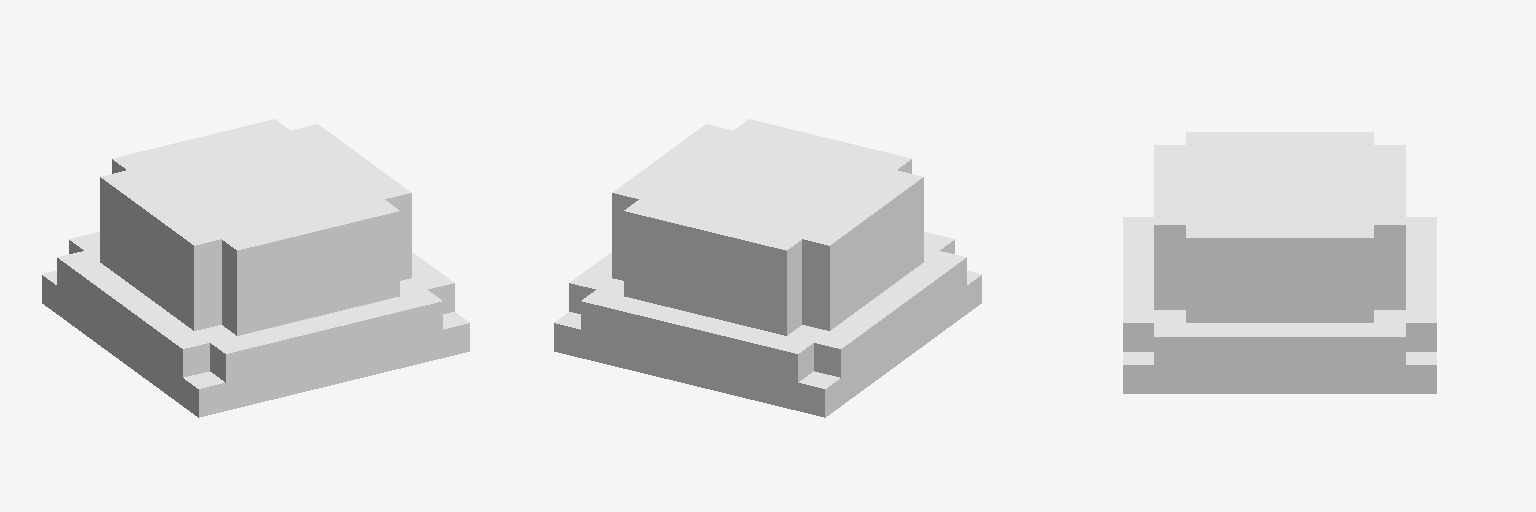
File: wall_pillar_base.obj
The picture shows the model from 3 angles: view 1: azimuth 30°, elevation 25°; view 2: azimuth 150°, elevation 25°; view 3: azimuth 270°, elevation 25°; orthographic projection.
Visible parts, largest first — view 1: object 1; view 2: object 1; view 3: object 1.
Boxes of the visible parts, box(x1,y1,x2,y2) form: object 1: box(42, 119, 469, 417); object 1: box(554, 119, 981, 417); object 1: box(1123, 132, 1436, 393).
Size of the model in its own units: 1 by 0.5 by 1.